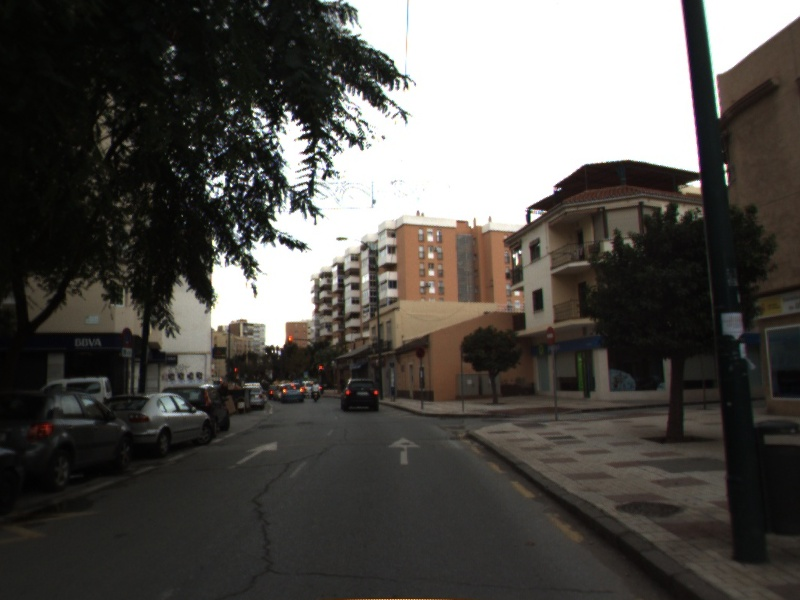STRAIGHT: (233, 439, 279, 466), (386, 434, 423, 467)
